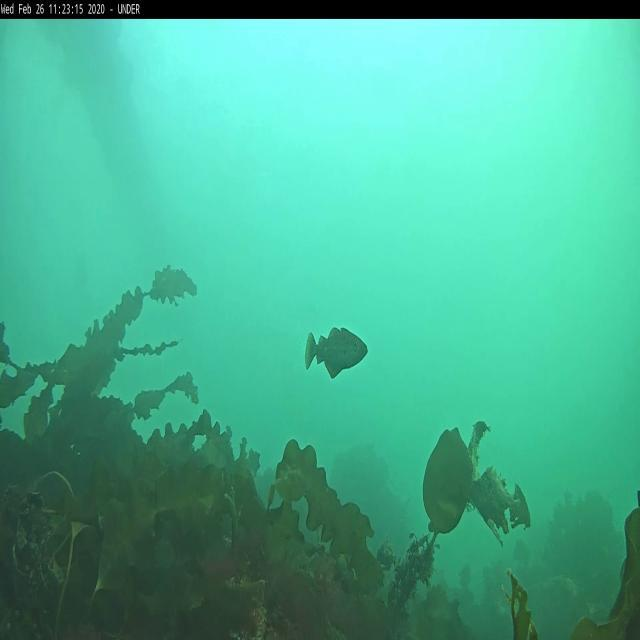fish: (304, 329, 368, 377)
